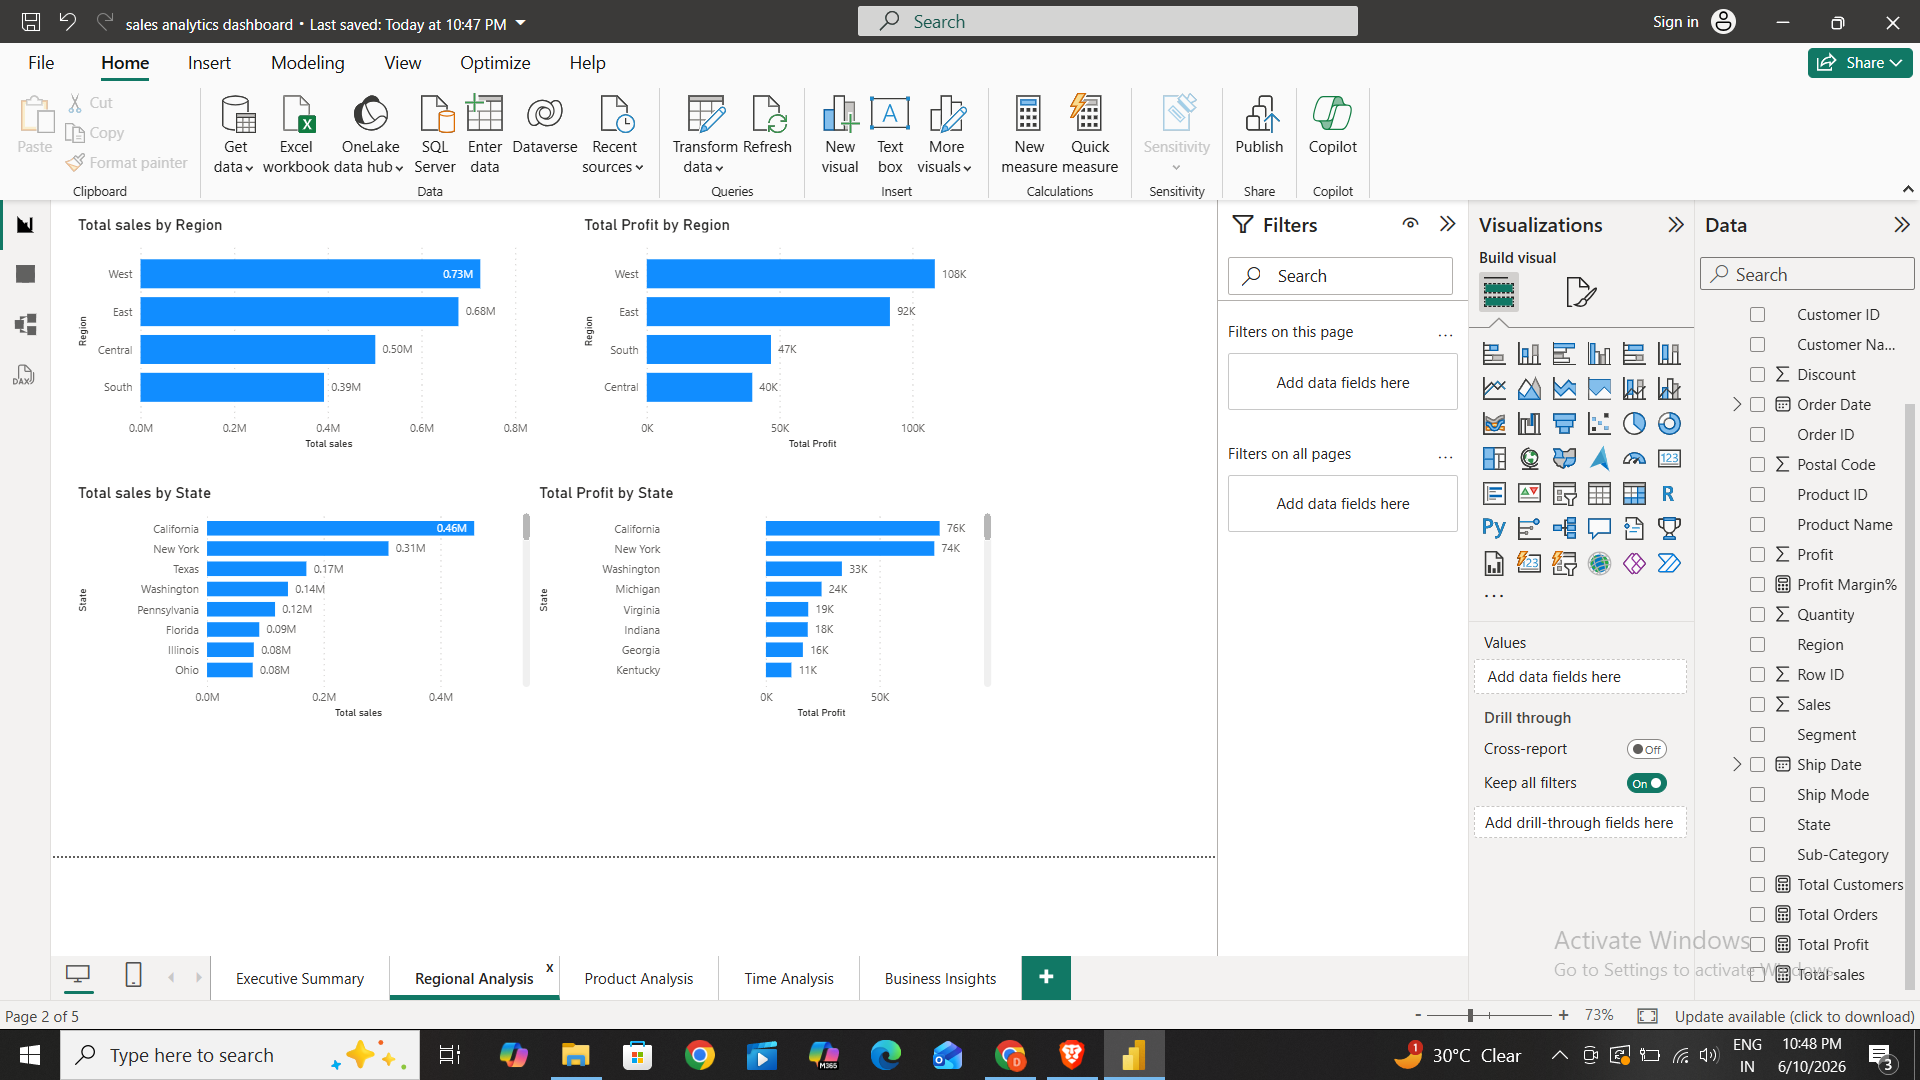

This screenshot's page, from the dashboard's own definition file:
{"tool":"powerbi","page":{"name":"Regional Analysis","canvas":[1280,720],"ordinal":1},"visuals":[{"type":"clusteredBarChart","fields":{"Category":["SSRD.Region"],"Y":["SSRD.Total sales"]},"box":[24.7,16.5,506.3,262.1],"z":0},{"type":"clusteredBarChart","fields":{"Category":["SSRD.Region"],"Y":["SSRD.Total Profit"]},"box":[580.4,16.5,456.9,262.1],"z":1000},{"type":"clusteredBarChart","fields":{"Y":["SSRD.Total sales"],"Category":["SSRD.State"]},"box":[24.7,311.5,506.3,262.1],"z":2000},{"type":"clusteredBarChart","fields":{"Category":["SSRD.State"],"Y":["SSRD.Total Profit"]},"box":[531,311.5,506.3,262.1],"z":3000}]}

Visuals, with their boxes on the page's 1280x720 design canvas (x1, y1, x2, y2). These are canvas units, not pixel positions in the 1920x1080 screenshot, which may show the page scaled, cropped or inside an application window:
clusteredBarChart - SSRD.Region x SSRD.Total sales: 25, 16, 531, 279
clusteredBarChart - SSRD.Region x SSRD.Total Profit: 580, 16, 1037, 279
clusteredBarChart - SSRD.Total sales x SSRD.State: 25, 312, 531, 574
clusteredBarChart - SSRD.State x SSRD.Total Profit: 531, 312, 1037, 574
